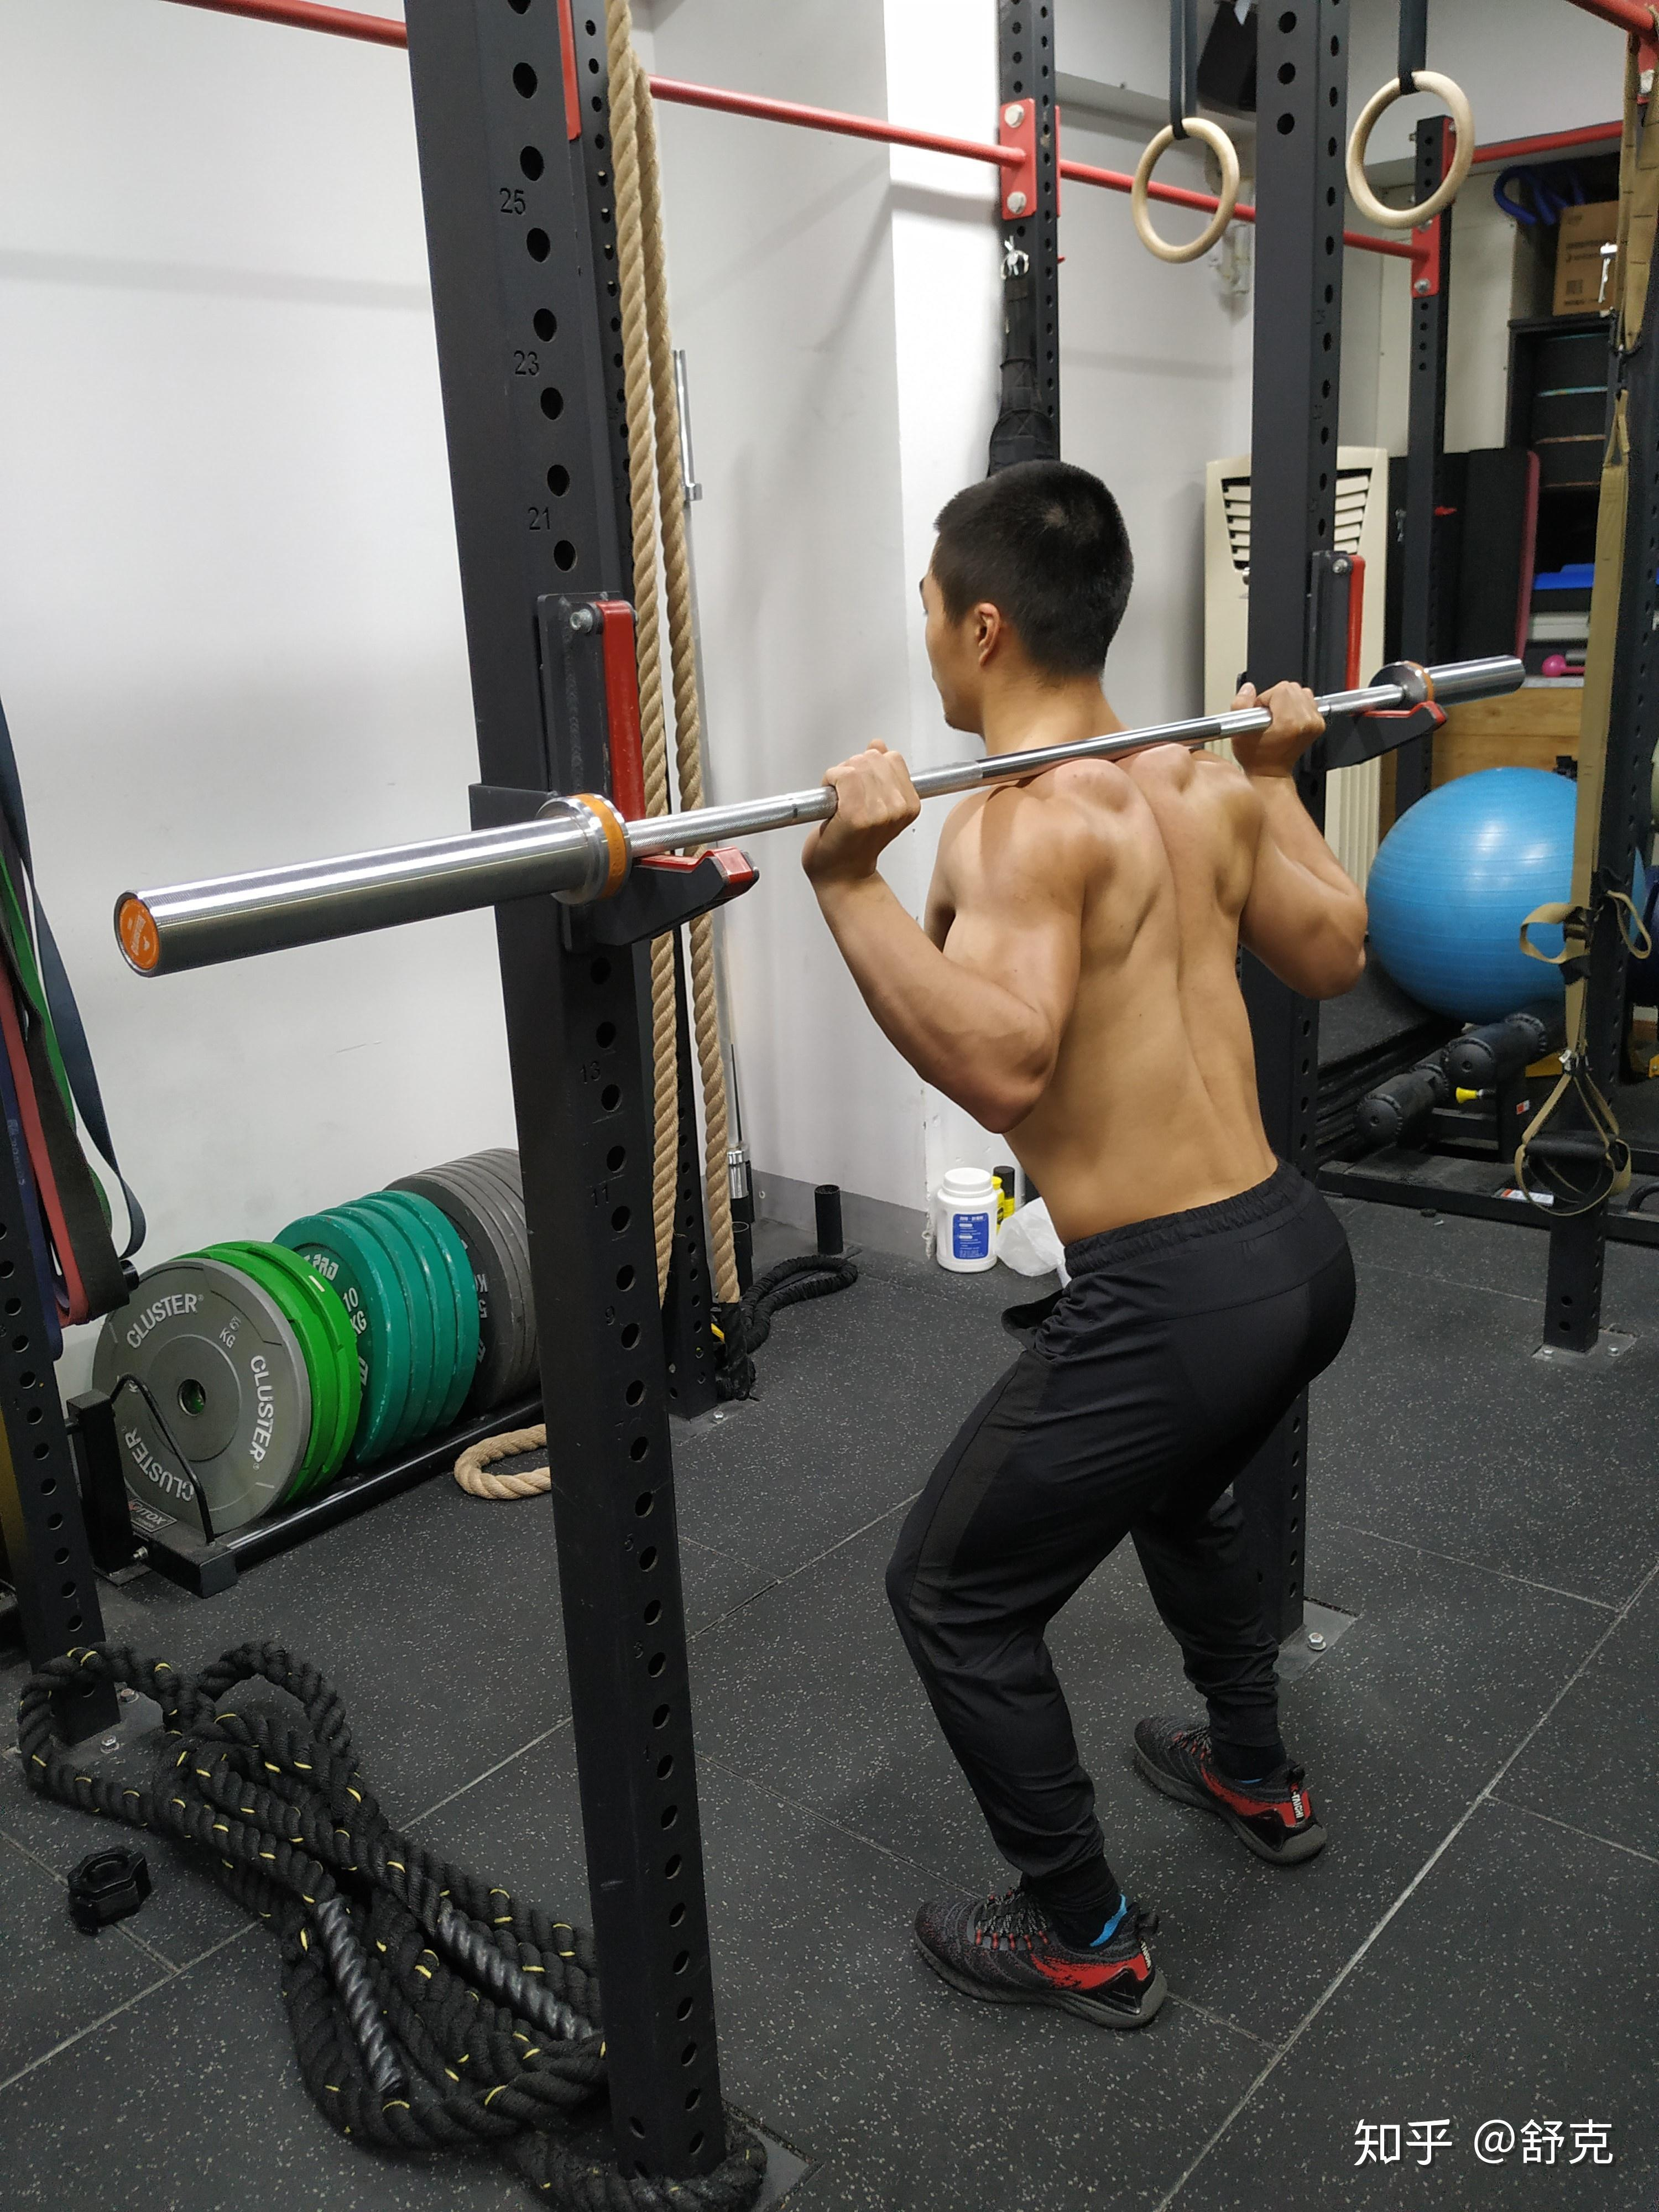Prepare: (798, 456, 1371, 2031)
